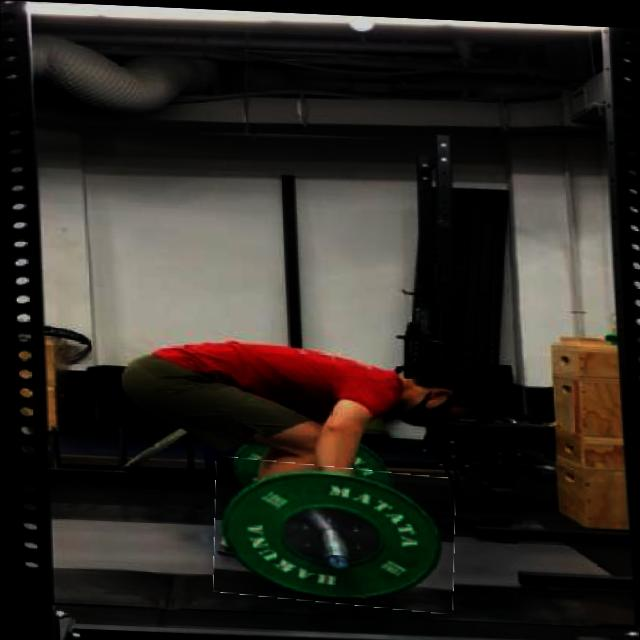barbell: (209, 458, 454, 608)
